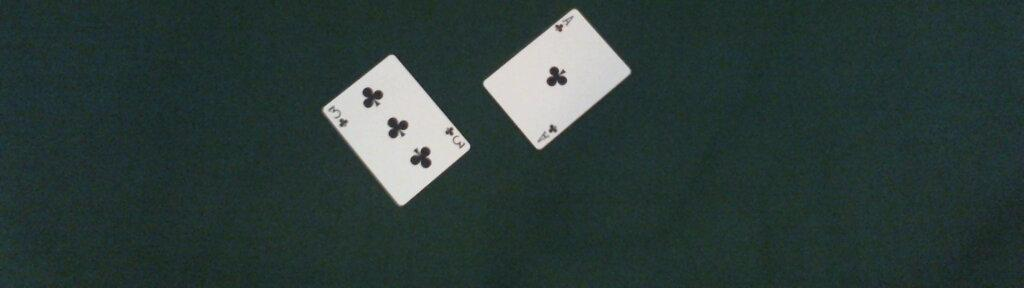ace: (481, 8, 633, 149)
three: (321, 53, 470, 205)
